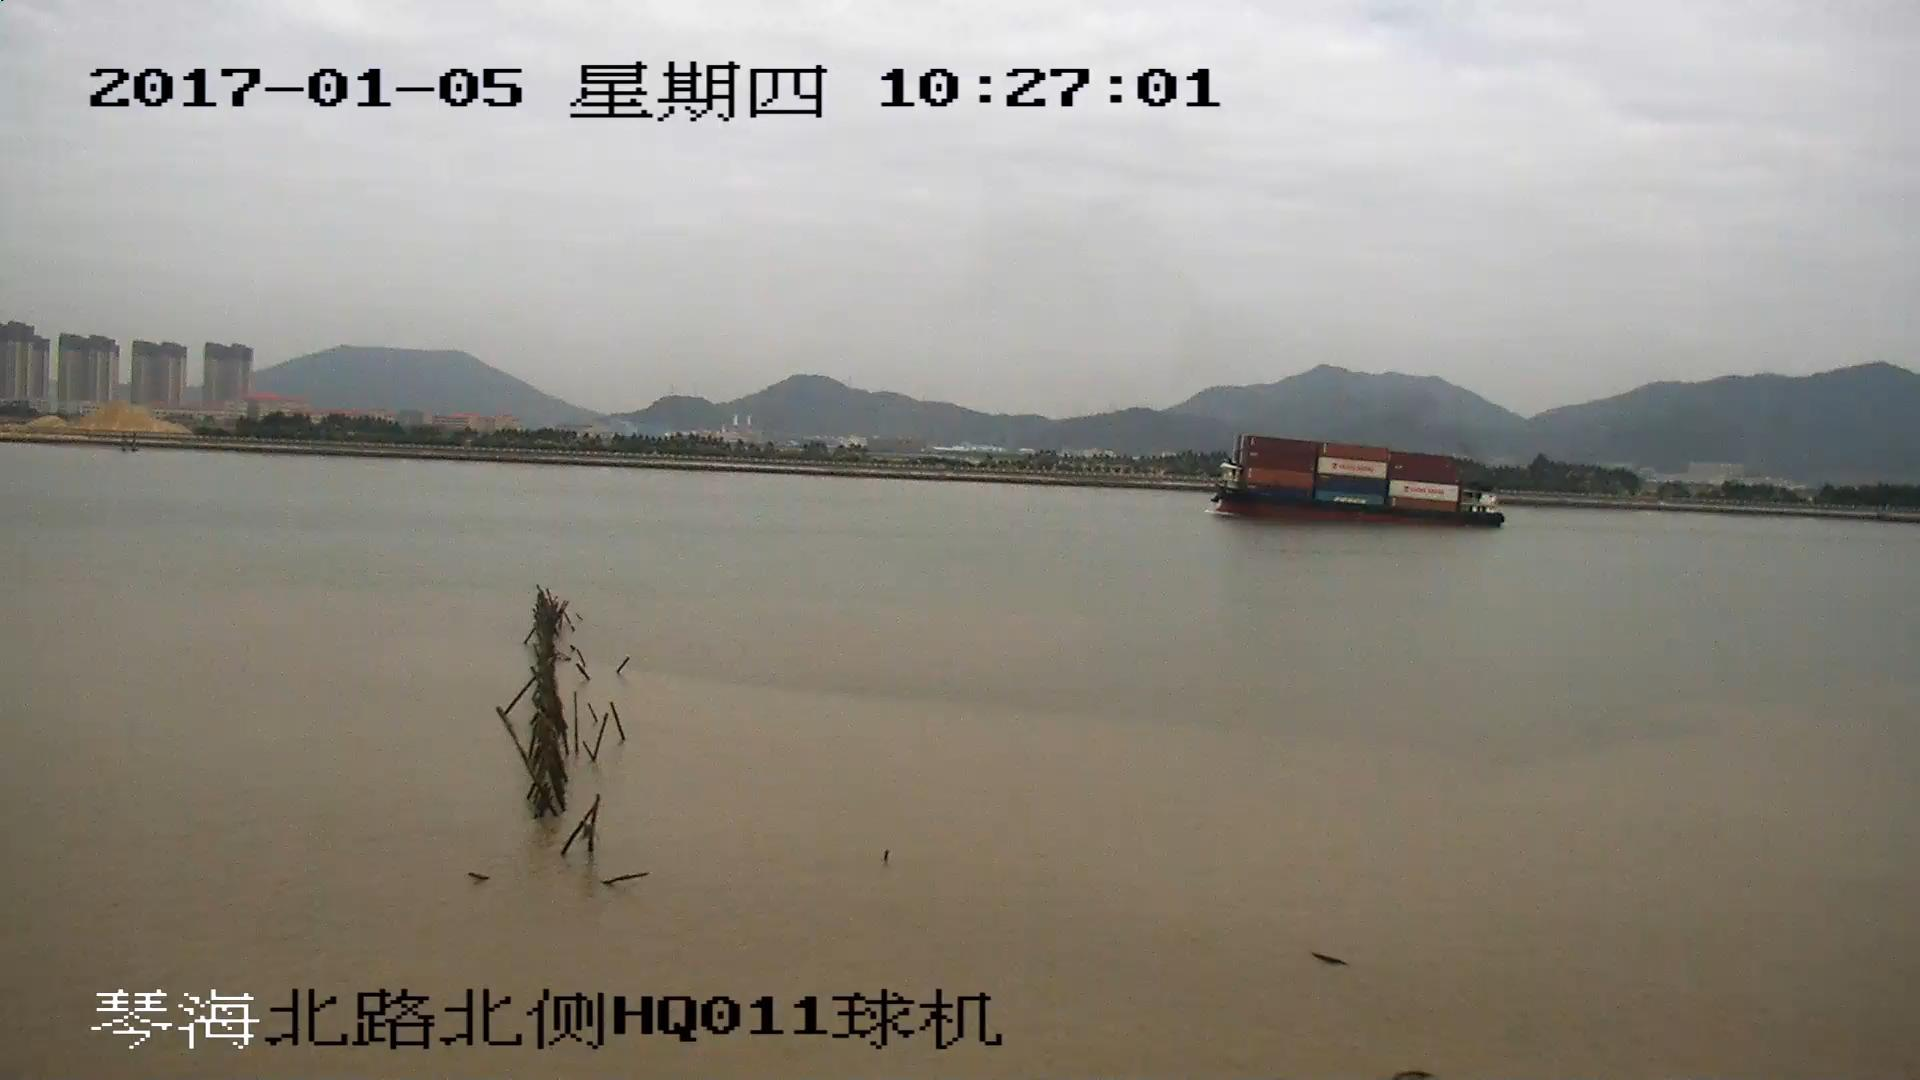Ship: (1207, 433, 1505, 531)
